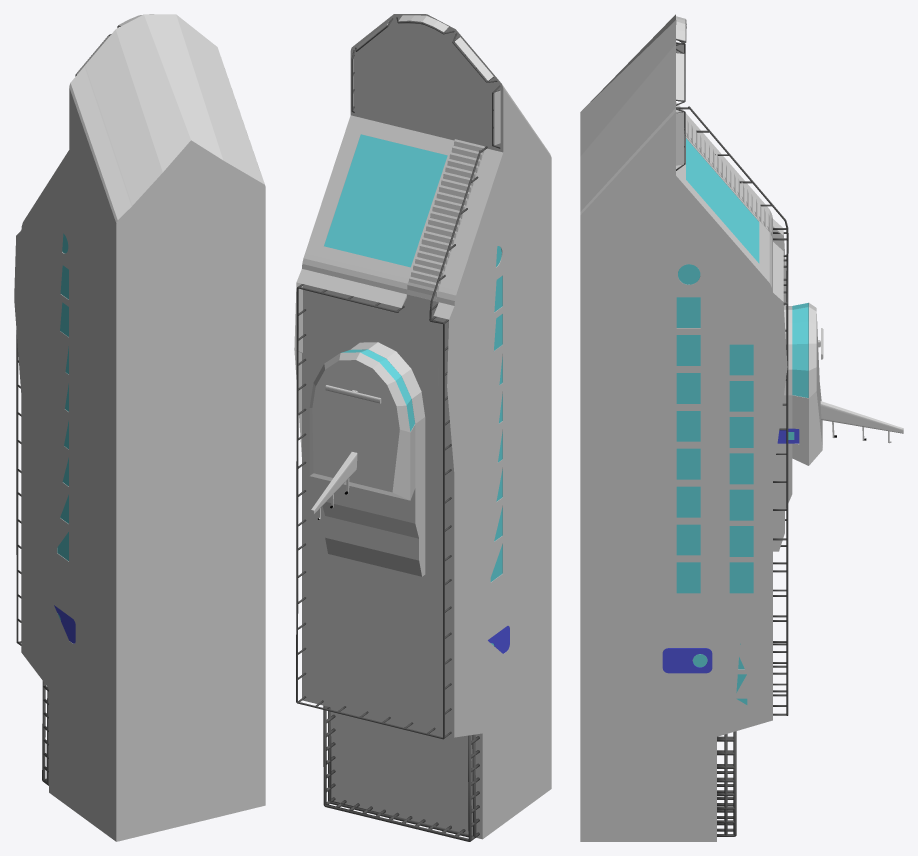
The model's file is largeShip.fbx.
3 views of the same model, side by side, from view 1: azimuth 30°, elevation 25°; view 2: azimuth 150°, elevation 25°; view 3: azimuth 270°, elevation 25° (orthographic). The views are drawn at different scales.
Visible parts, largest first — view 1: Cube; view 2: Cube; view 3: Cube.
Boxes of the visible parts, <box> form: Cube: <box>14,14,265,841</box>; Cube: <box>294,14,551,841</box>; Cube: <box>580,14,903,841</box>.
Bounding box in the file's own units: 1265 × 6257 × 2336.
